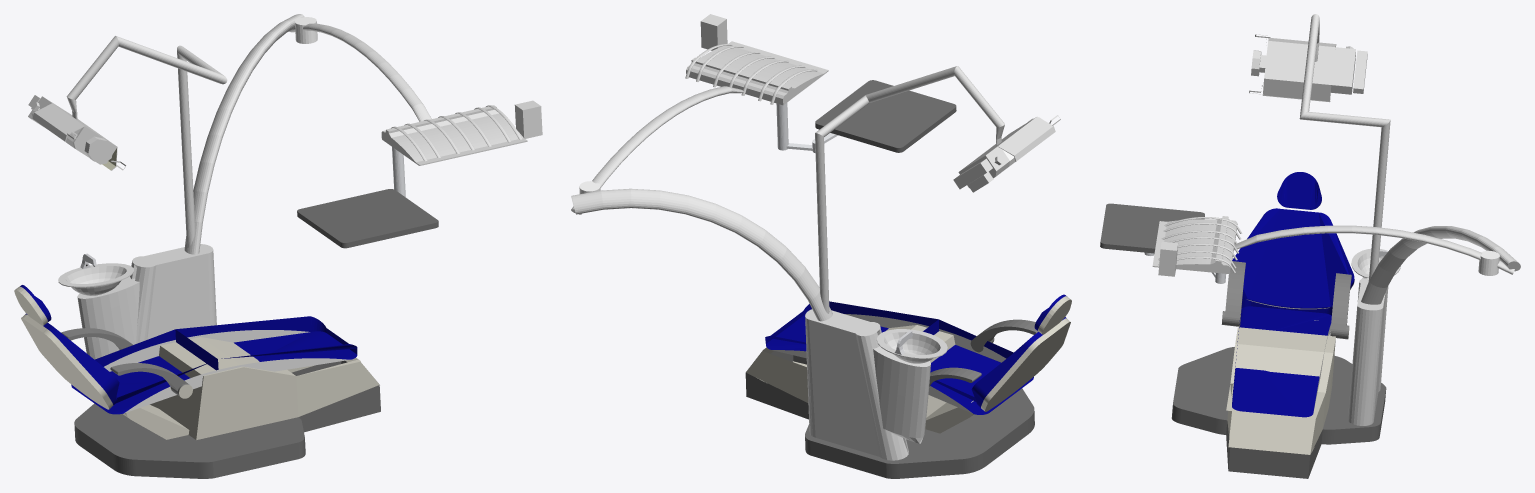
3 views of the same model, side by side, from view 1: azimuth 30°, elevation 25°; view 2: azimuth 150°, elevation 25°; view 3: azimuth 270°, elevation 25° (orthographic). The views are drawn at different scales.
Visible parts, largest first — view 1: Component_001, Component4_001; view 2: Component_001; view 3: Component_001, Component3_001, Component4_001.
Boxes of the visible parts, x1=… form: Component_001: x1=14, y1=14, x2=527, y2=478; Component4_001: x1=514, y1=100, x2=542, y2=138; Component_001: x1=571, y1=21, x2=1071, y2=478; Component_001: x1=1100, y1=14, x2=1520, y2=478; Component3_001: x1=1264, y1=41, x2=1335, y2=92; Component4_001: x1=1158, y1=241, x2=1177, y2=276.
Size of the model in its own units: 2307 by 2012 by 2056.
